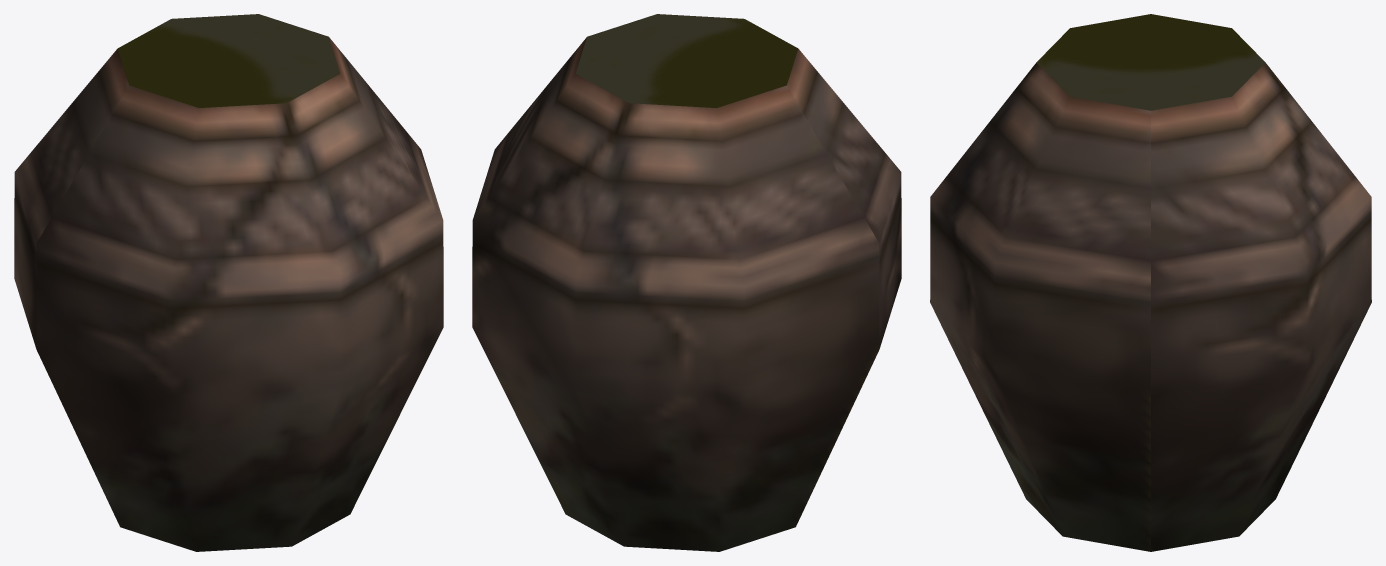
The model's file is sences_changbanpo_wujian019.FBX.
3 renders of one model, left to right at view 1: azimuth 30°, elevation 25°; view 2: azimuth 150°, elevation 25°; view 3: azimuth 270°, elevation 25°, orthographic.
Visible parts, largest first — view 1: sences_changbanpo_wujian019; view 2: sences_changbanpo_wujian019; view 3: sences_changbanpo_wujian019.
Boxes of the visible parts, bbox=[...] form: sences_changbanpo_wujian019: bbox=[14, 14, 443, 551]; sences_changbanpo_wujian019: bbox=[472, 14, 901, 551]; sences_changbanpo_wujian019: bbox=[930, 14, 1371, 551].
Bounding box in the file's own units: 0.7686 × 0.7686 × 0.8387.
